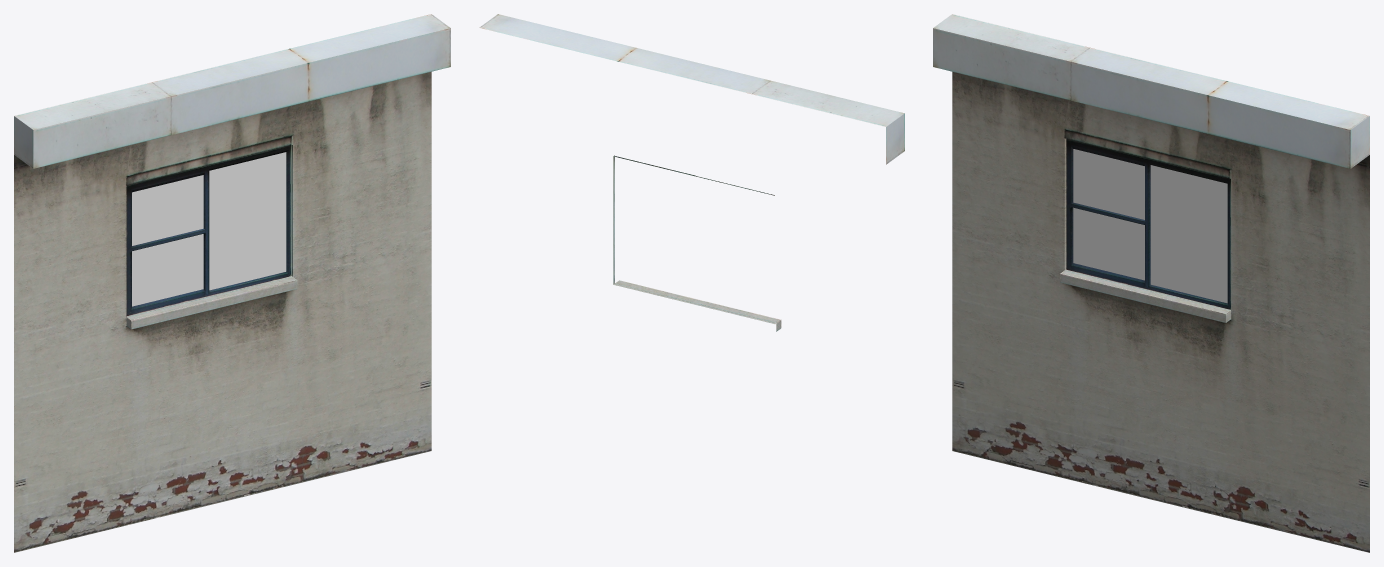
File: building_front3.glb
3 views of the same model, side by side, from view 1: azimuth 30°, elevation 25°; view 2: azimuth 150°, elevation 25°; view 3: azimuth 330°, elevation 25° (orthographic). The views are drawn at different scales.
Parts seen in each view (by area): view 1: building_front3; view 2: building_front3; view 3: building_front3.
Boxes of the visible parts, x1,y1,x2,y2 form: building_front3: (14, 14, 450, 552); building_front3: (479, 14, 904, 331); building_front3: (933, 14, 1369, 552).
Bounding box in the file's own units: 5 × 5 × 0.4308.
Materials: 2 (1 with a texture image).
